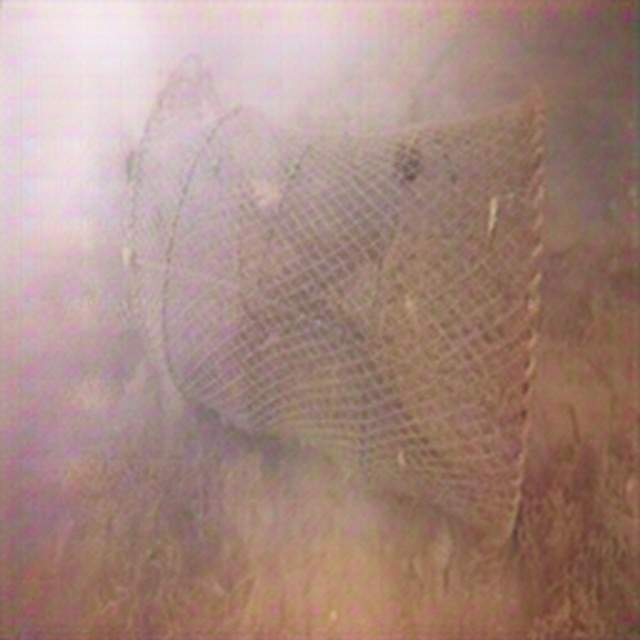mine: (127, 73, 546, 552)
